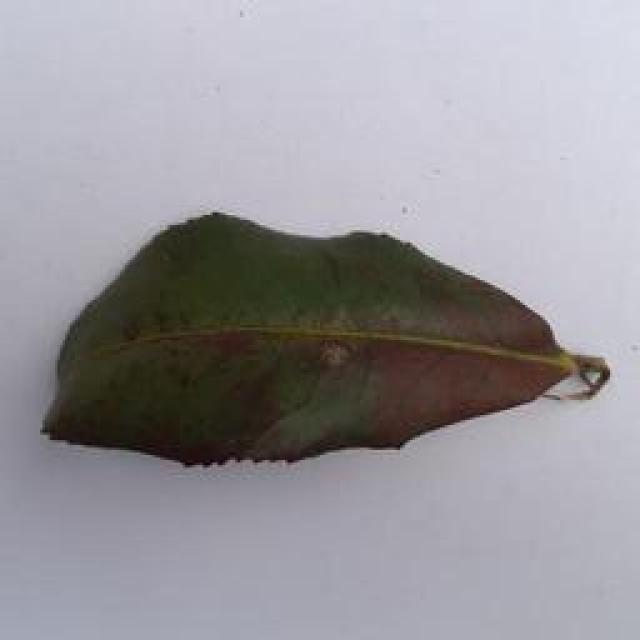Red Leaf Spot: (11, 201, 622, 505)
